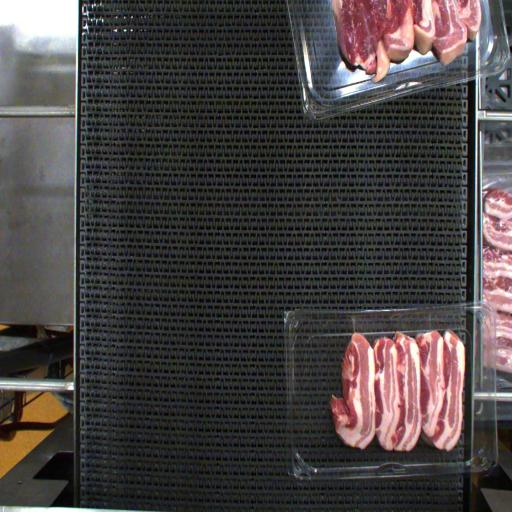packaging-error: (346, 311, 362, 335)
